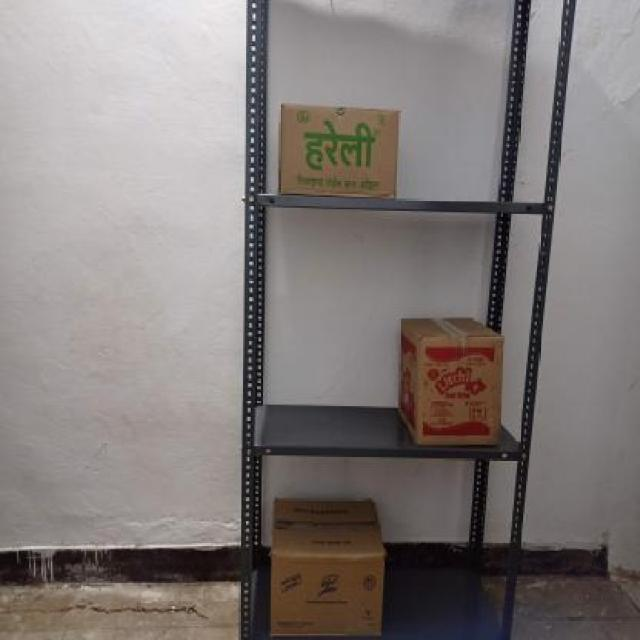box: (278, 103, 397, 199), (270, 552, 386, 638), (419, 334, 501, 446)
